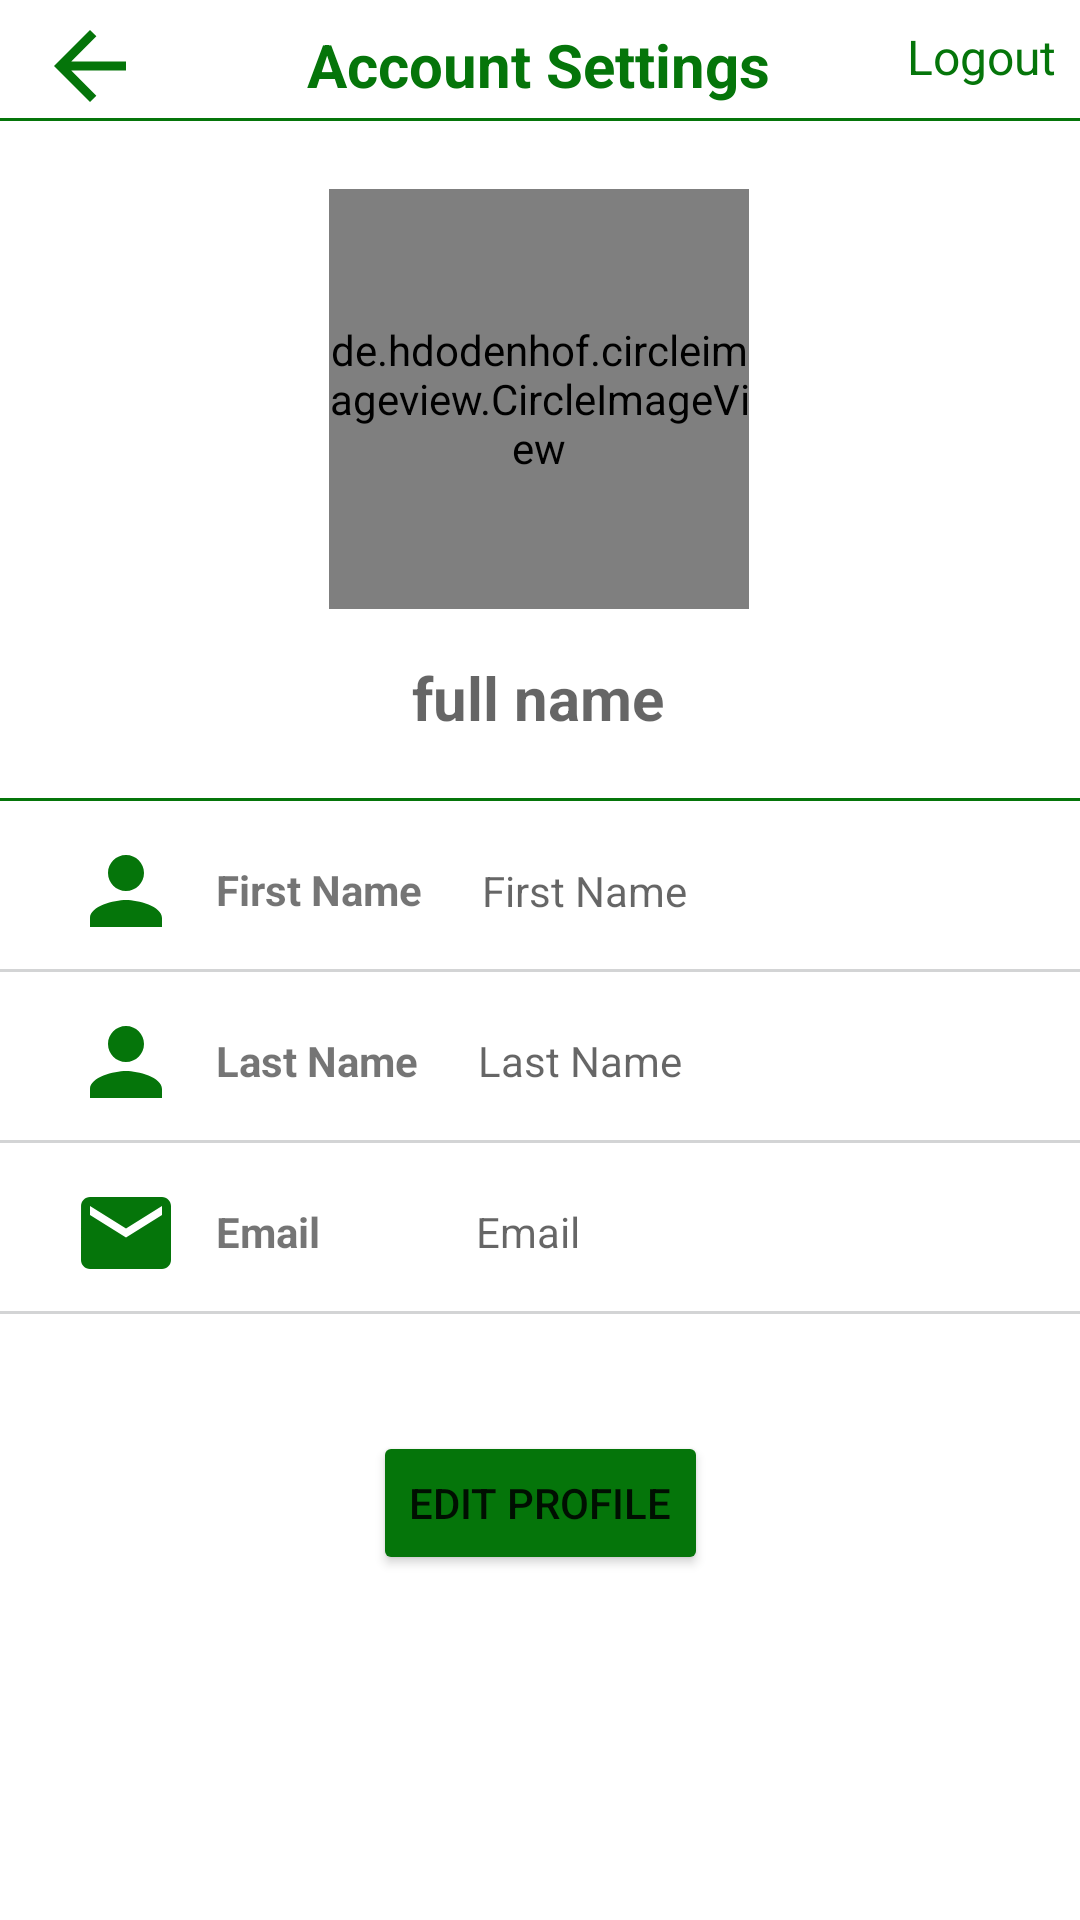

Icon bounding boxes for this 1080 x 1920 phone screenshot, format bbox(x1, y1, x2, y2):
backarrow: bbox(54, 30, 126, 102)
person: bbox(90, 855, 162, 927), bbox(90, 1026, 162, 1098)
